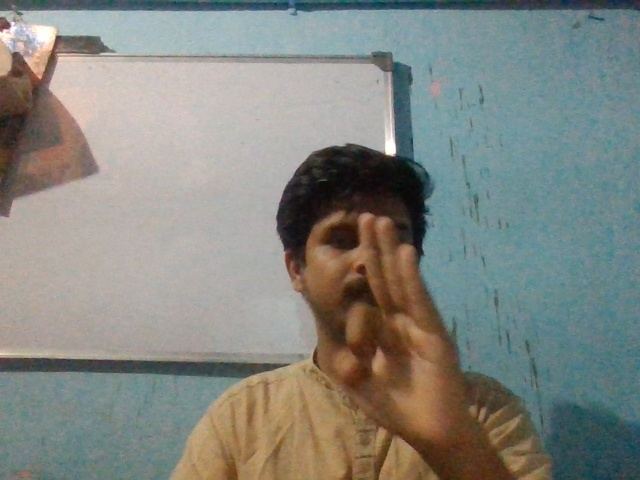Chin: (319, 196, 476, 446)
